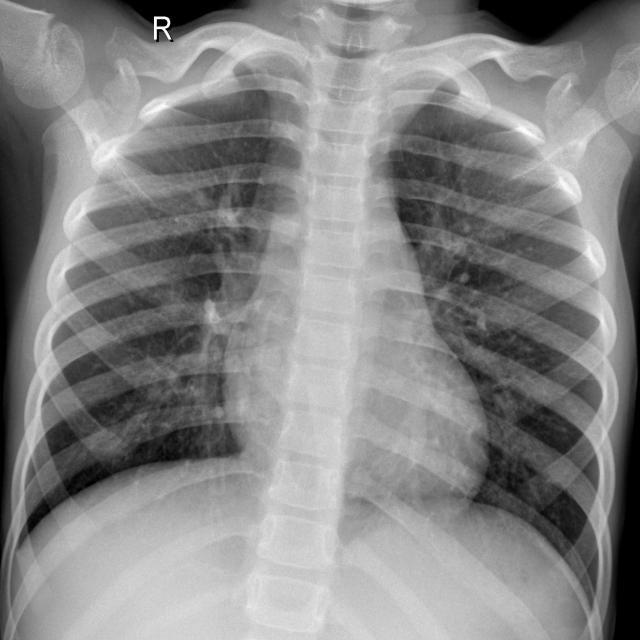no-pneumonia: (6, 75, 303, 566), (391, 80, 619, 622)
